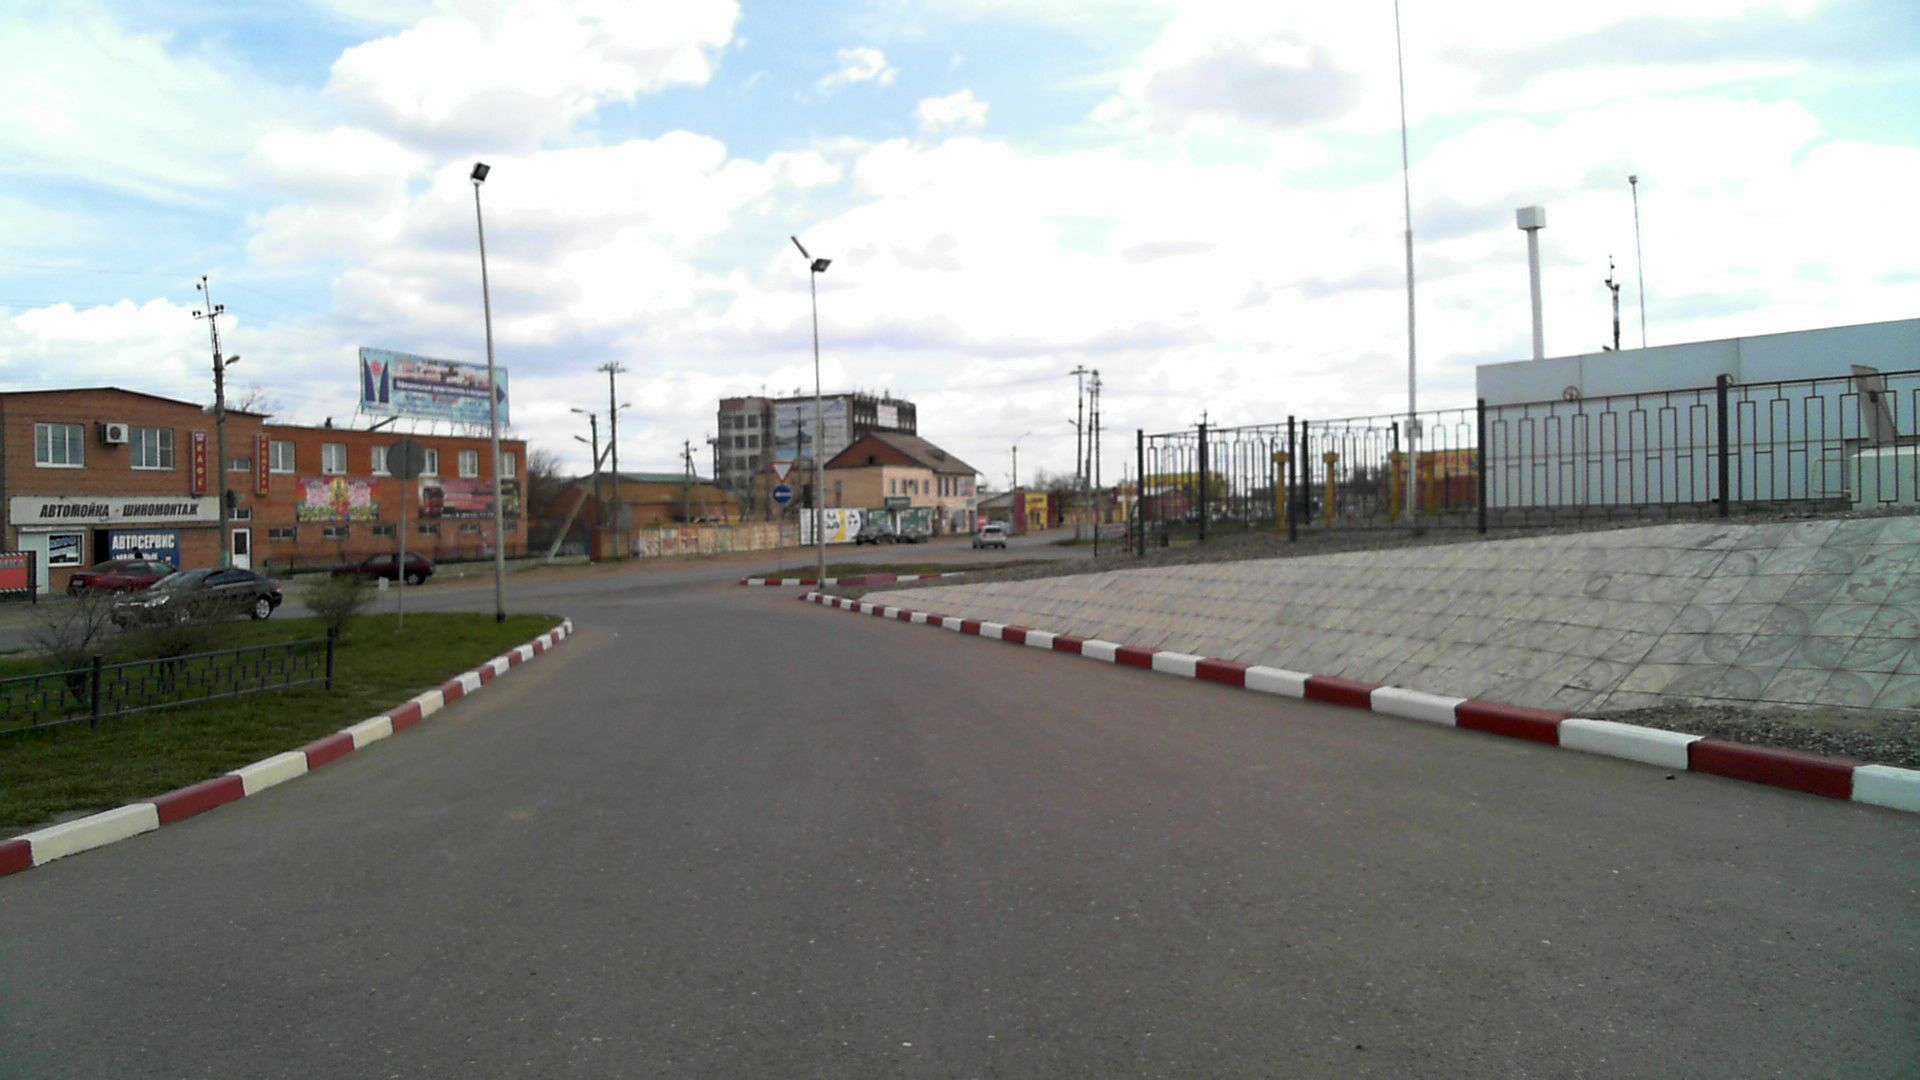Turn Left: (773, 485, 794, 504)
